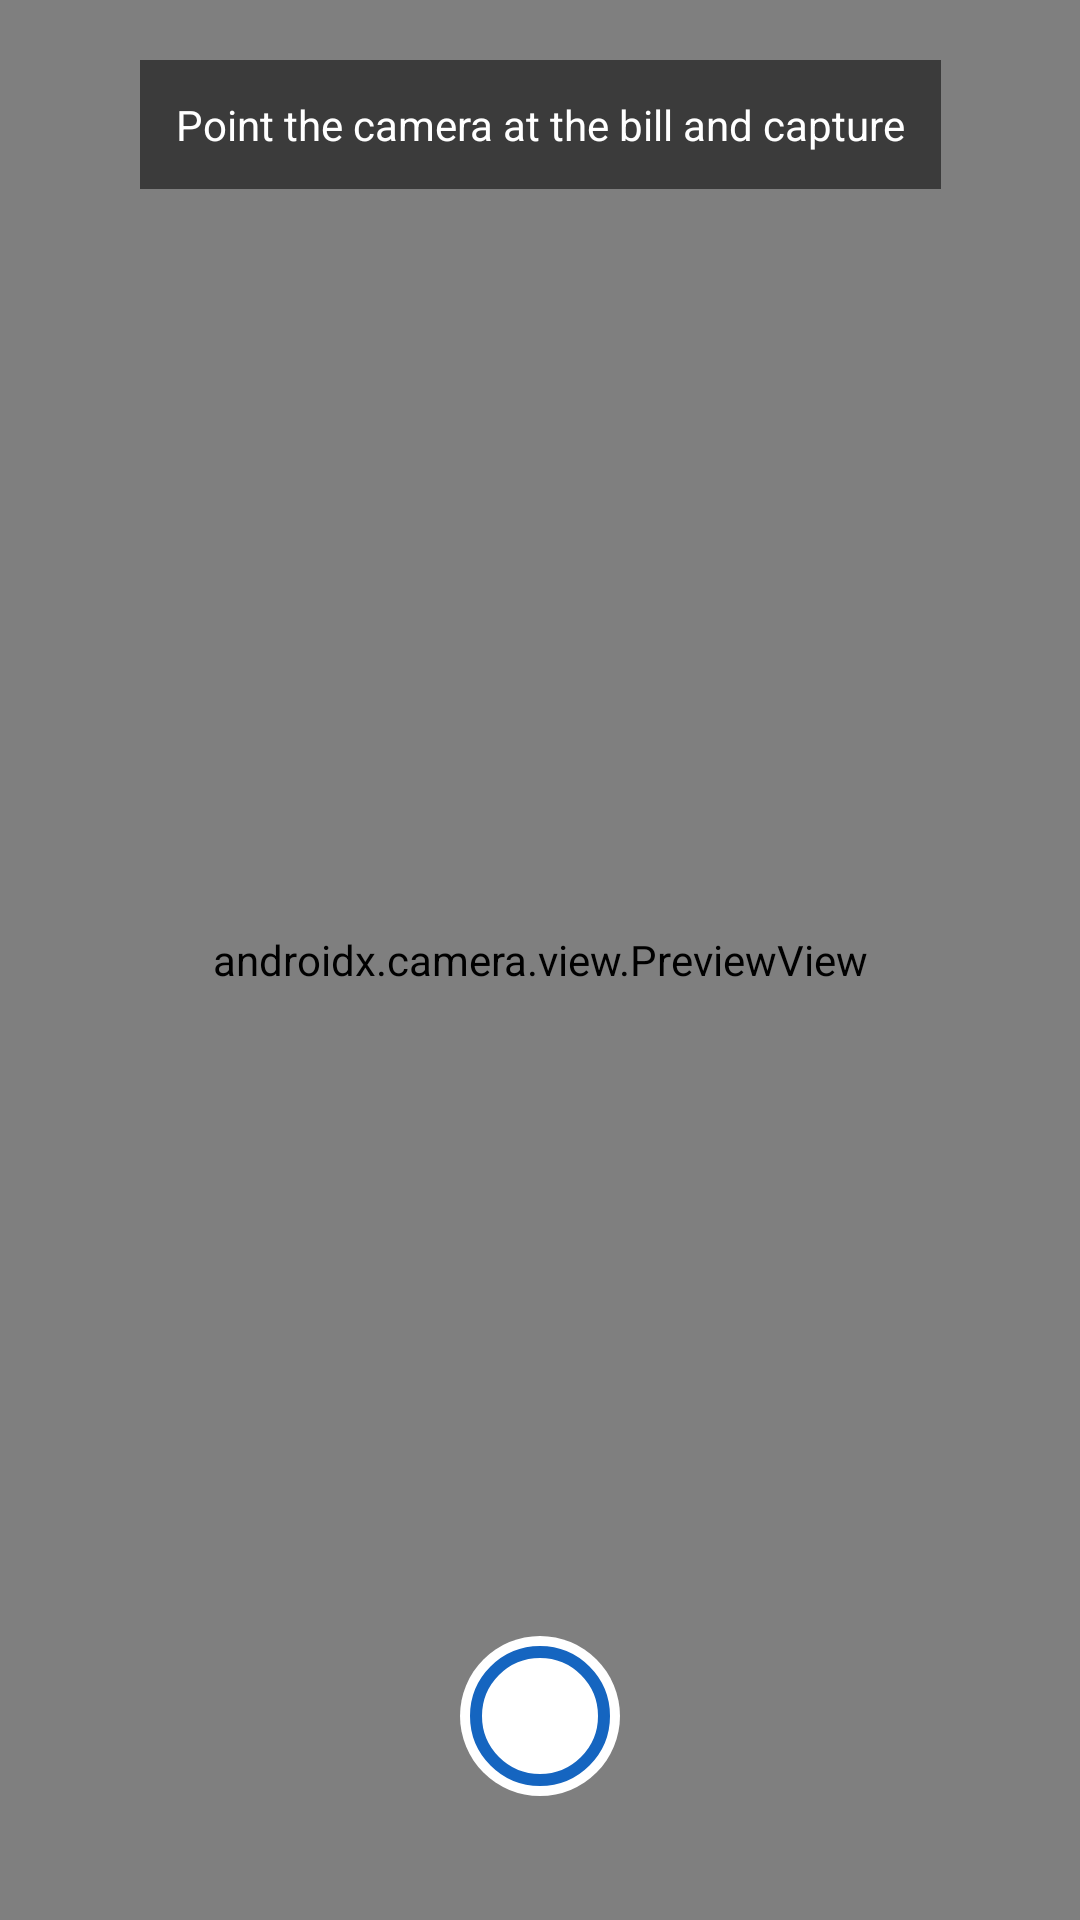

Screen size 1080 × 1920. Icon name, then its box in pixels as (x1, y1, x2, y2):
Capture: (460, 1636, 620, 1796)
